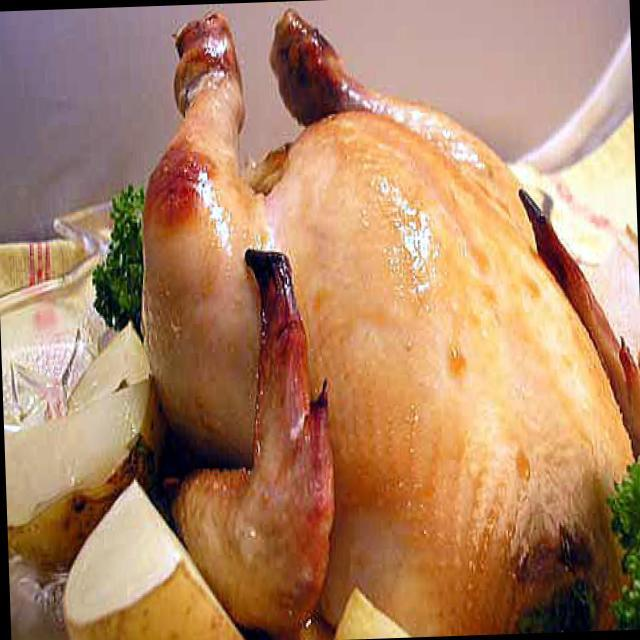Chicken: (133, 0, 636, 640)
